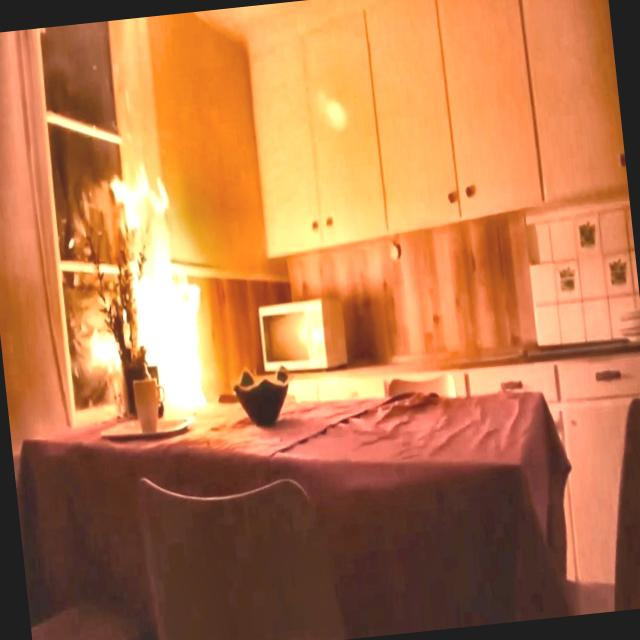fire: (59, 141, 226, 436)
